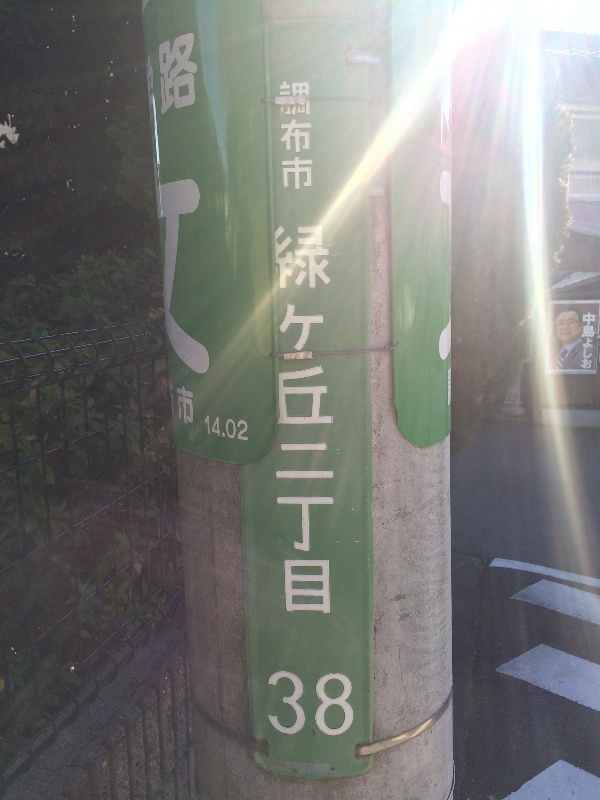text: (289, 225, 304, 616), (305, 225, 320, 616), (321, 225, 336, 616), (274, 225, 288, 616), (161, 169, 176, 375), (177, 169, 192, 375), (193, 169, 208, 375), (161, 30, 176, 121), (177, 30, 192, 121), (154, 169, 160, 375), (289, 121, 304, 193), (273, 672, 288, 737), (289, 672, 304, 737), (305, 672, 320, 737), (321, 672, 336, 737), (337, 672, 352, 737), (209, 169, 213, 375), (193, 30, 201, 121), (177, 384, 192, 428), (305, 121, 314, 193), (289, 79, 304, 119), (583, 311, 592, 371), (281, 121, 288, 193), (209, 417, 224, 445), (225, 417, 240, 445), (337, 225, 338, 616), (267, 672, 272, 737), (353, 672, 358, 737), (280, 79, 288, 119), (305, 79, 311, 119), (241, 417, 248, 445), (158, 30, 160, 121), (593, 311, 596, 371), (203, 417, 208, 445), (193, 384, 194, 428)
